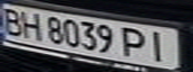0: (60, 17, 81, 48)
3: (78, 19, 100, 52)
8: (42, 13, 66, 46)
9: (93, 21, 118, 55)
B: (0, 6, 27, 37)
H: (18, 9, 45, 40)
I: (142, 28, 175, 63)
P: (118, 25, 151, 60)
